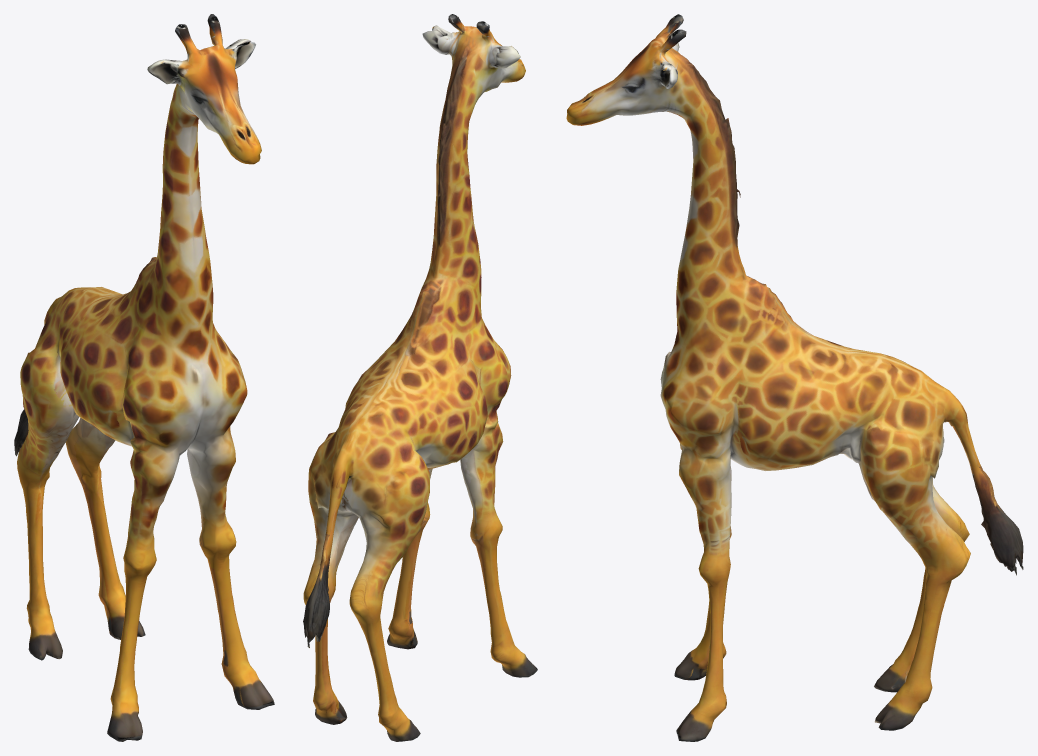
Rendered from Jirafa__0602220502_texture.glb.
The picture shows the model from 3 angles, left to right: view 1: azimuth 30°, elevation 25°; view 2: azimuth 150°, elevation 25°; view 3: azimuth 270°, elevation 25°; orthographic projection. The views are drawn at different scales.
Bounding box in the file's own units: 0.4759 × 2 × 1.21.
1 material, 1 textured.
